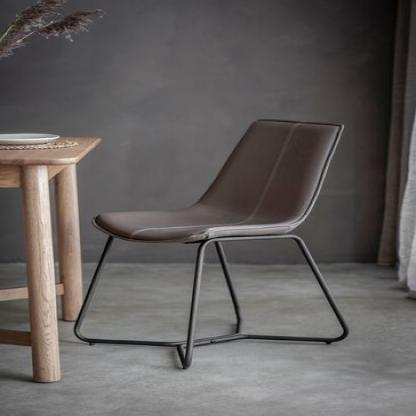chair: (74, 116, 350, 366)
table: (0, 132, 106, 385)
